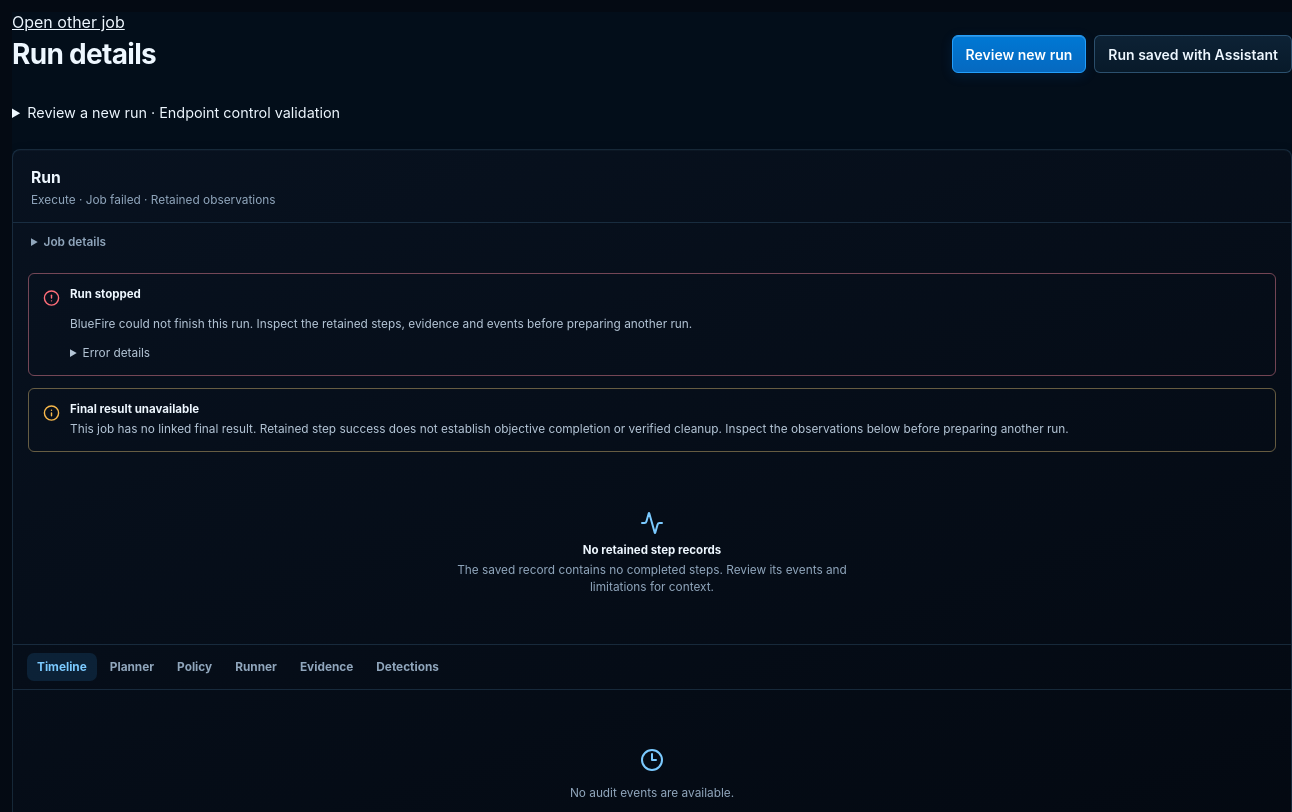
shows retained observations in the failed job without promoting a final result or releasing effects
Expected: the text "Final result unavailable" is shown, [70,402,199,416]
Click the tab "Evidence".
click(327, 667)  # box [290,653,363,681]
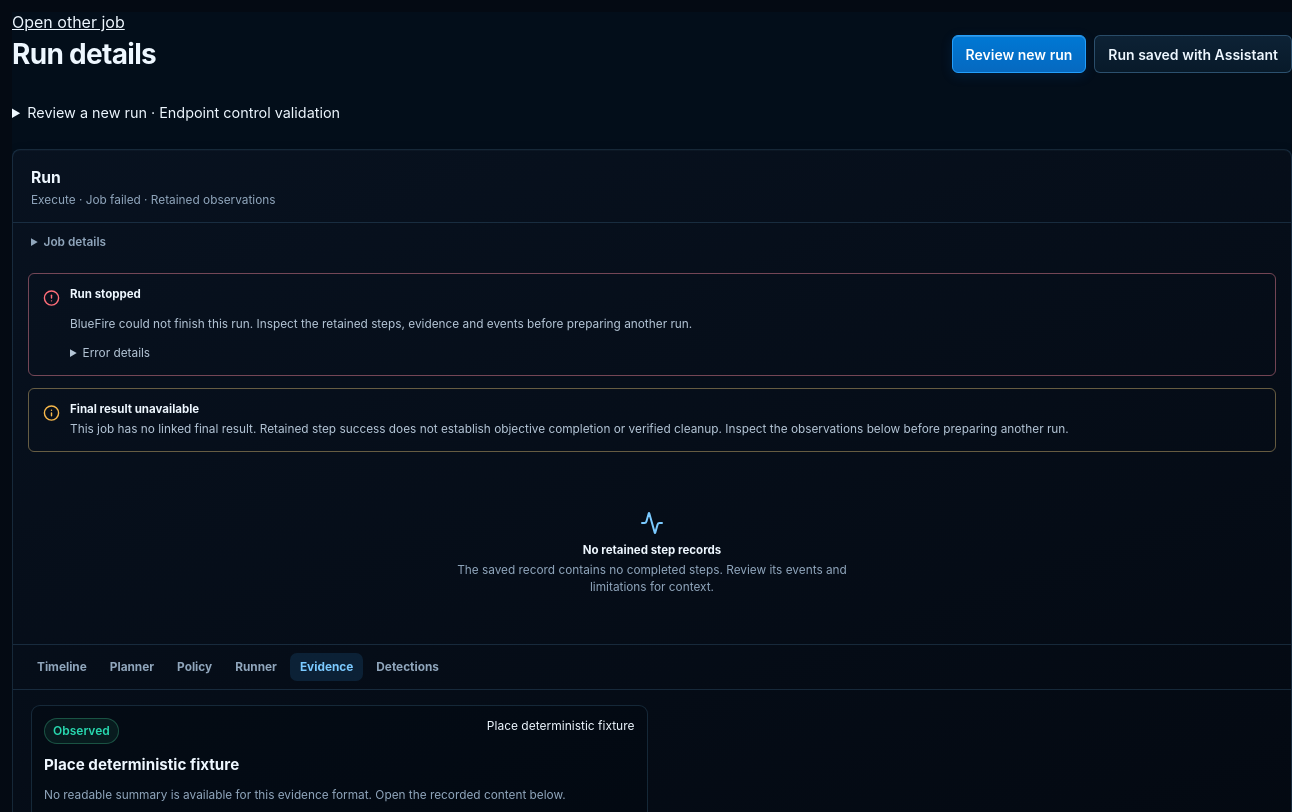
Expected: the header "Observed Place deterministic fixture" does not show "sandbox.fixture.create.v1", [44,718,634,744]
Result: the text with class "evidence-record-title" reads "Place deterministic fixture" at [44,754,239,774]
Result: the header "Observed Place deterministic fixture" is shown at [44,718,634,744]
